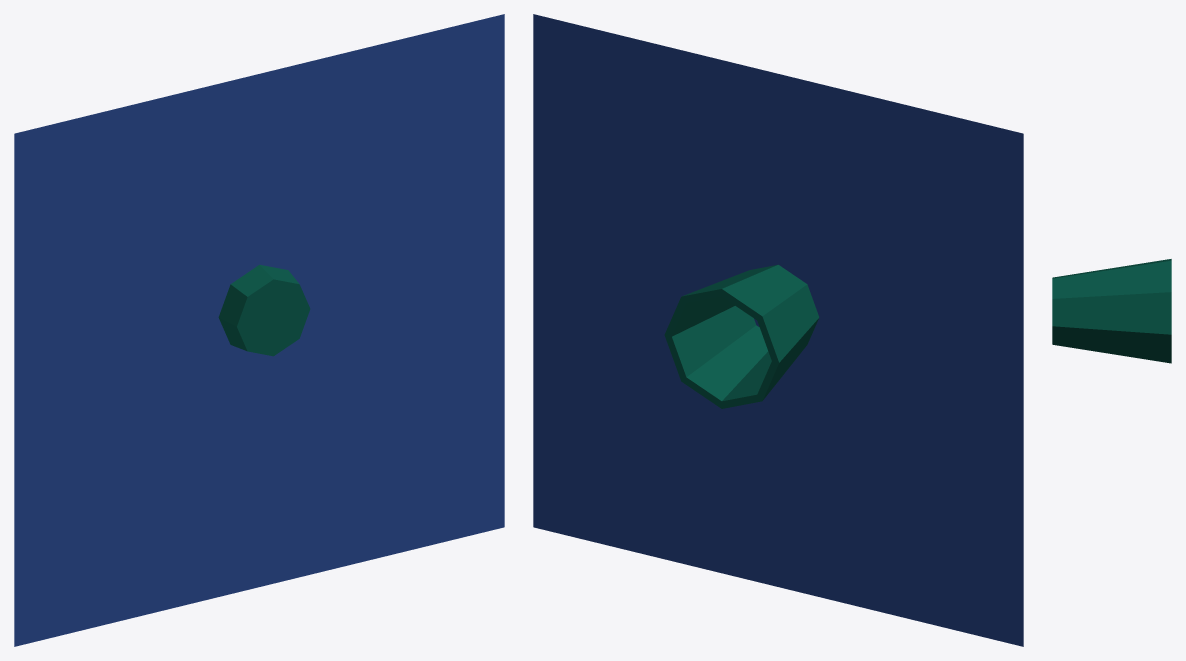
File: LoungeRoom_Trash.fbx
3 renders of one model, left to right at view 1: azimuth 30°, elevation 25°; view 2: azimuth 150°, elevation 25°; view 3: azimuth 270°, elevation 25°, orthographic. The views are drawn at different scales.
Visible parts, largest first — view 1: Plane.282, TrashCan; view 2: Plane.282, TrashCan; view 3: TrashCan.
Part boxes in pixels (x1=…): Plane.282: x1=14, y1=14, x2=504, y2=646; TrashCan: x1=218, y1=264, x2=310, y2=356; Plane.282: x1=533, y1=14, x2=1023, y2=646; TrashCan: x1=664, y1=264, x2=819, y2=408; TrashCan: x1=1052, y1=259, x2=1171, y2=363.
Size of the model in its own units: 2 by 2 by 0.5.
